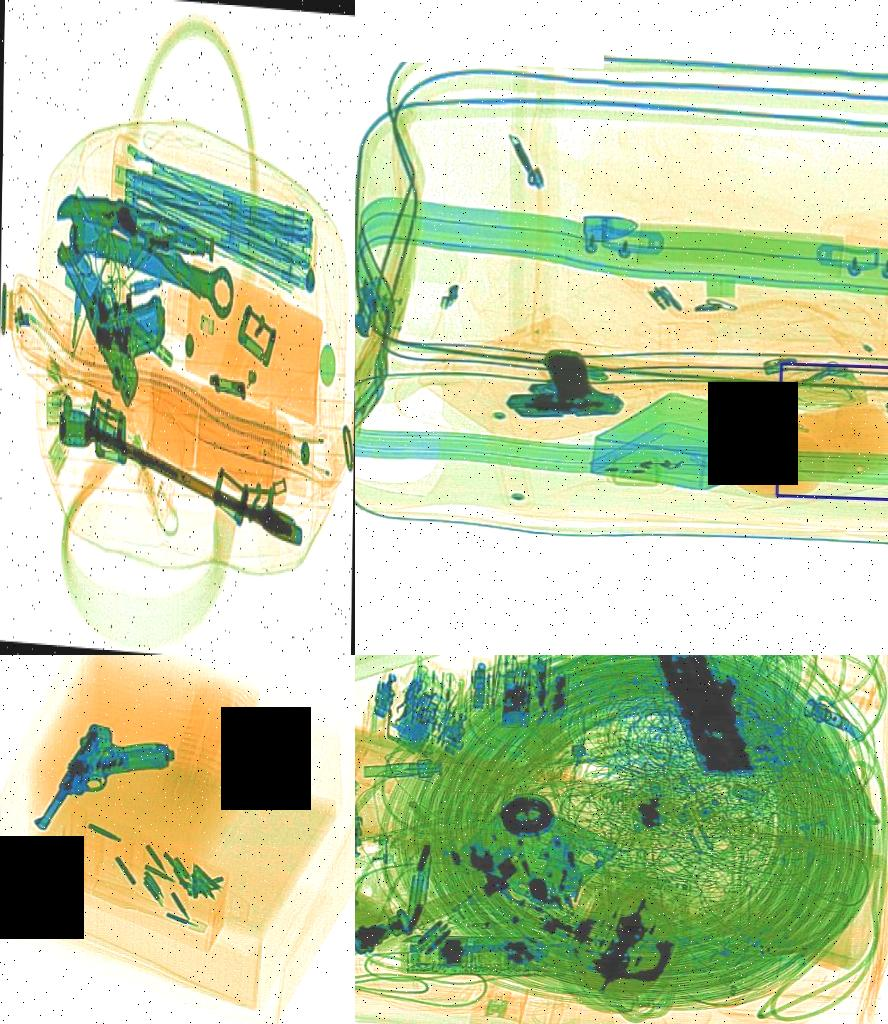Gun: (51, 174, 180, 410), (30, 702, 182, 867), (506, 340, 626, 426)
Wrench: (54, 398, 308, 554), (53, 185, 240, 323)
